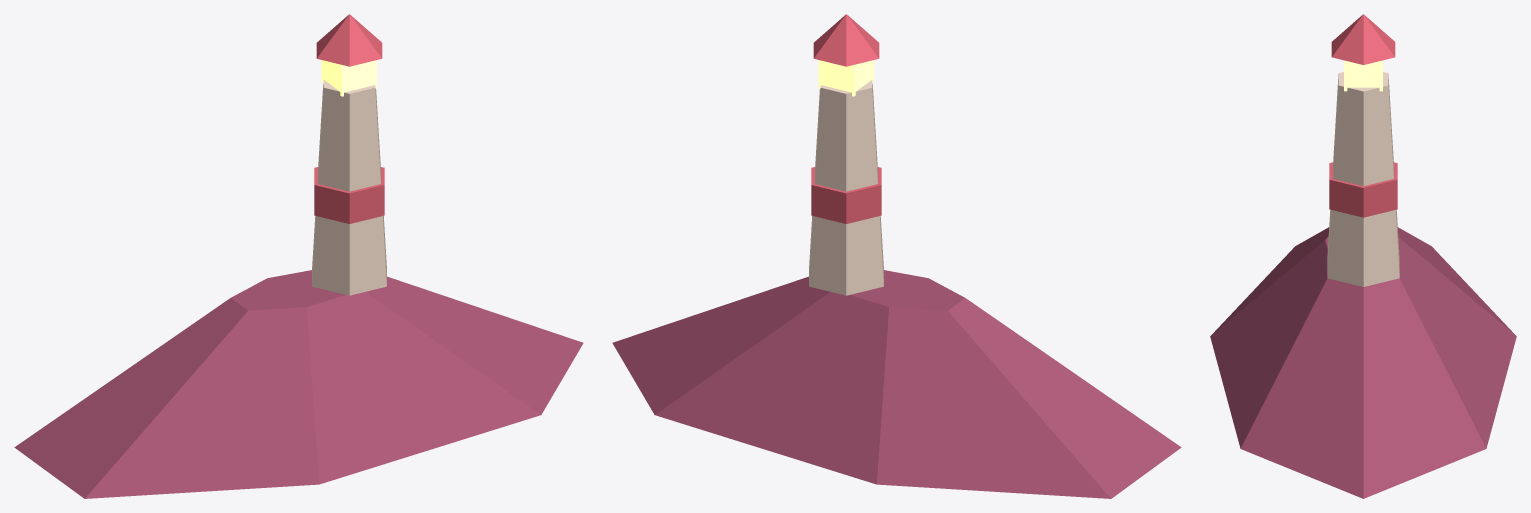
File: island.glb
3 views of the same model, side by side, from view 1: azimuth 30°, elevation 25°; view 2: azimuth 150°, elevation 25°; view 3: azimuth 270°, elevation 25° (orthographic). The views are drawn at different scales.
Parts seen in each view (by area): view 1: Hill, Tower, Band, Cap, Lamp; view 2: Hill, Tower, Band, Cap, Lamp; view 3: Hill, Tower, Band, Cap, Lamp.
Part boxes in pixels (x1,y1,x2,y2): Hill: [14, 270, 583, 498]; Tower: [312, 80, 386, 295]; Band: [314, 167, 384, 223]; Cap: [316, 14, 382, 66]; Lamp: [321, 60, 377, 96]; Hill: [612, 270, 1181, 498]; Tower: [809, 80, 883, 295]; Band: [811, 167, 881, 223]; Cap: [813, 14, 879, 66]; Lamp: [818, 60, 874, 96]; Hill: [1210, 227, 1516, 498]; Tower: [1327, 72, 1399, 286]; Band: [1329, 162, 1397, 217]; Cap: [1331, 14, 1395, 64]; Lamp: [1344, 60, 1382, 91].
Bounding box in the file's own units: 4.56 × 3.15 × 2.34.
